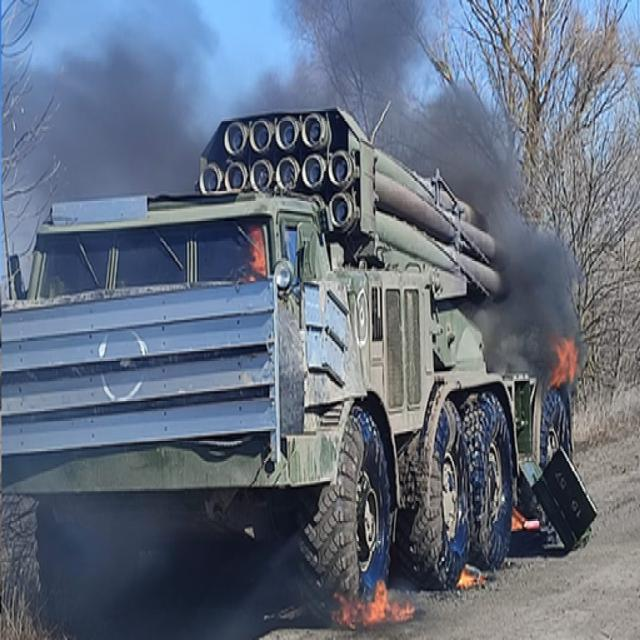MLRS: (0, 84, 589, 620)
